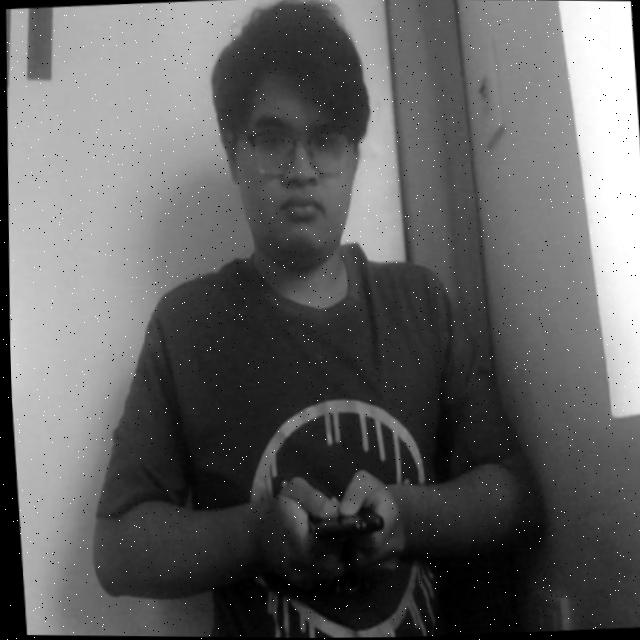phone: (290, 483, 389, 572)
